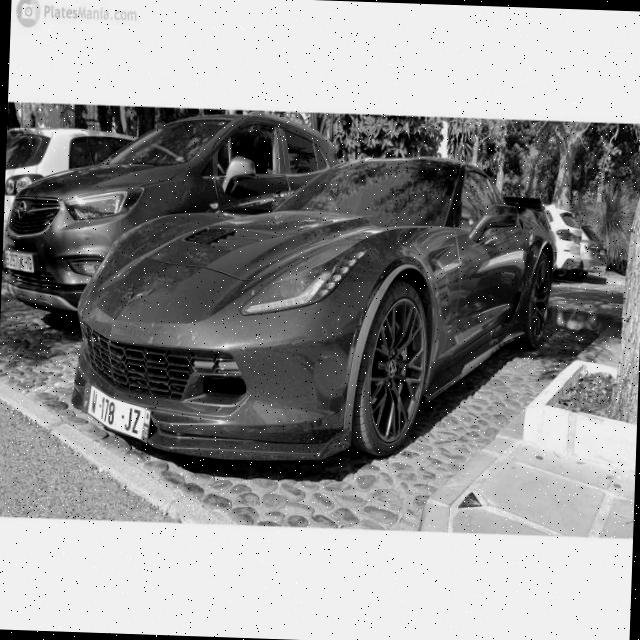EU: (79, 380, 150, 441)
France: (79, 382, 91, 412)
